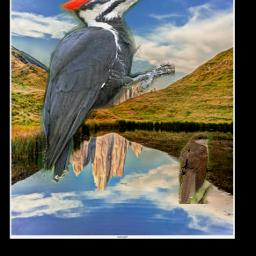Cuckoo: (178, 132, 212, 204)
Woodpecker: (31, 0, 175, 183)
